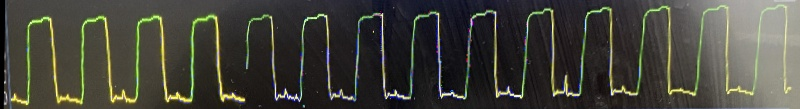hydrop_pressure: (4, 0, 796, 109)
